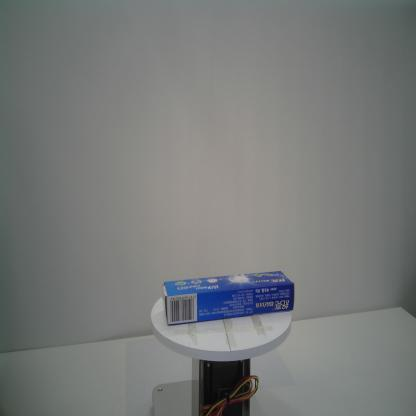Personal Hygiene: (162, 269, 296, 327)
